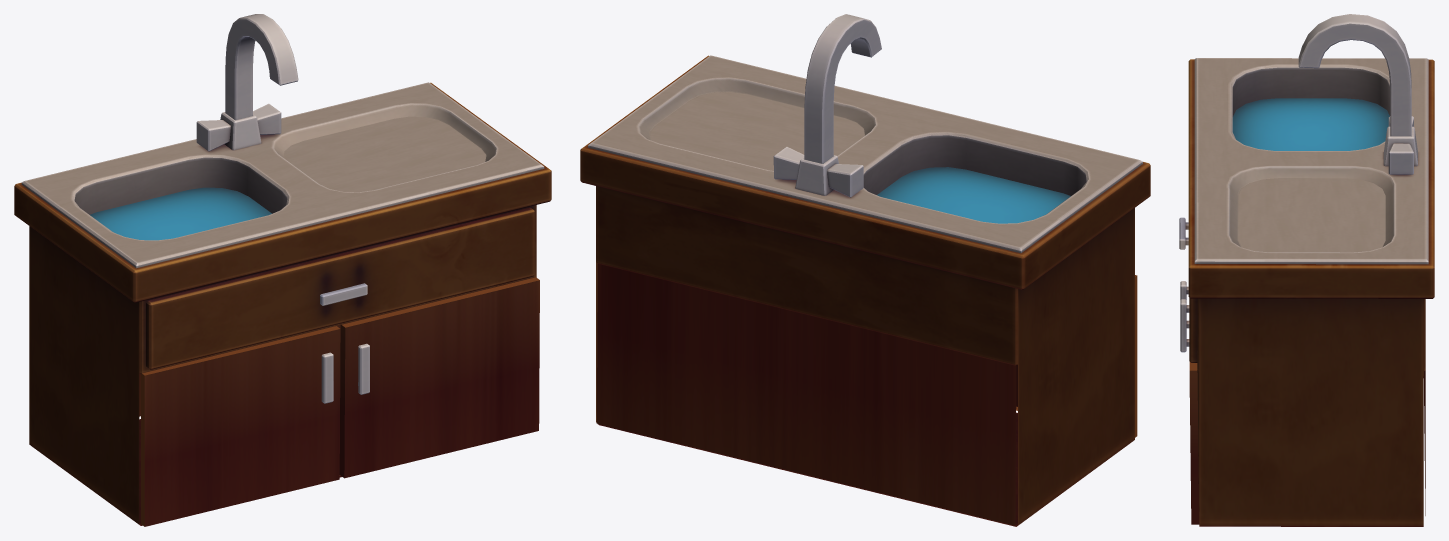
The model's file is KitchenSink.fbx.
3 views of the same model, side by side, from view 1: azimuth 30°, elevation 25°; view 2: azimuth 150°, elevation 25°; view 3: azimuth 270°, elevation 25° (orthographic). The views are drawn at different scales.
Parts seen in each view (by area): view 1: Sink; view 2: Sink; view 3: Sink.
Boxes of the visible parts, bbox=[...] form: Sink: bbox=[14, 14, 551, 526]; Sink: bbox=[580, 14, 1150, 526]; Sink: bbox=[1179, 14, 1434, 526].
Bounding box in the file's own units: 400 × 368 × 208.
